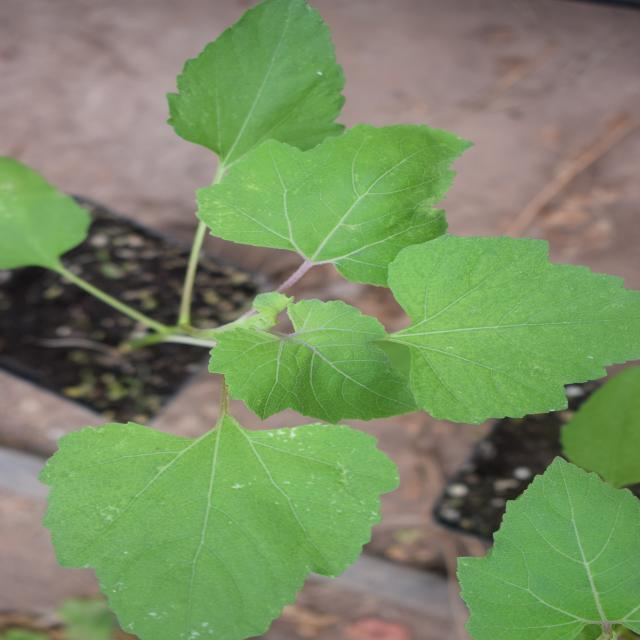cocklebur: (1, 51, 600, 609)
